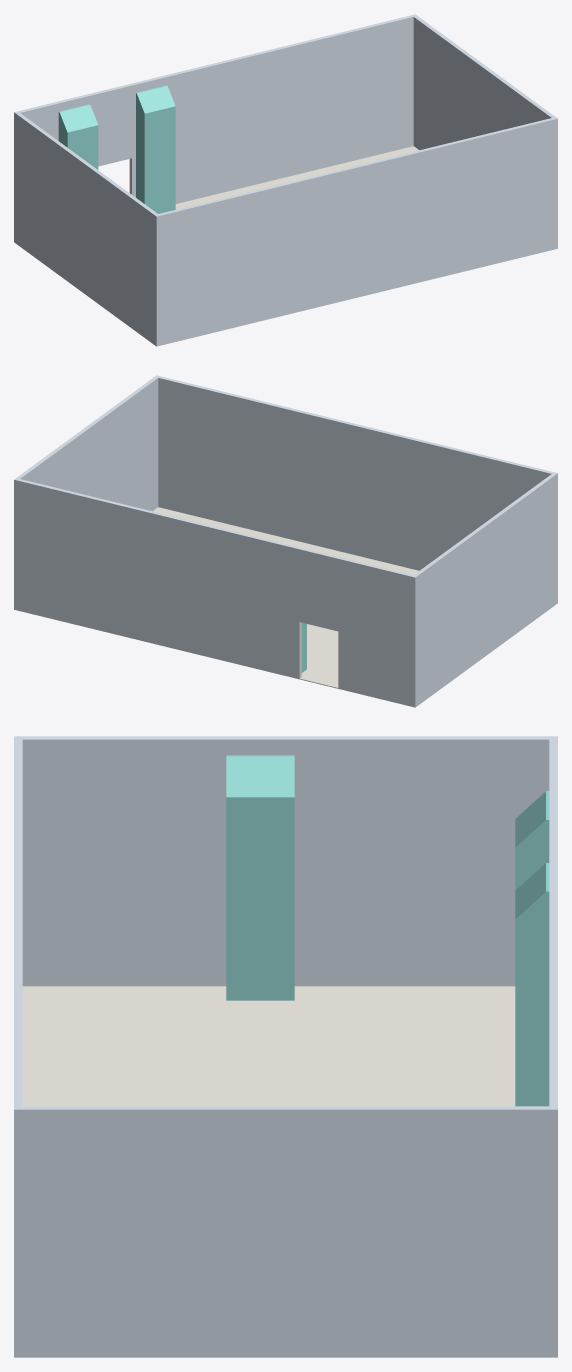
Rendered from forum.fbx.
3 renders of one model, top to bottom at view 1: azimuth 30°, elevation 25°; view 2: azimuth 150°, elevation 25°; view 3: azimuth 270°, elevation 25°, orthographic. The views are drawn at different scales.
Visible parts, largest first — view 1: mesh1, mesh23, mesh0, mesh9, mesh18, mesh8, mesh28, mesh17; view 2: mesh4, mesh10, mesh0, mesh9, mesh17, mesh8; view 3: mesh2, mesh11, mesh17, mesh14, mesh8, mesh18, mesh28.
Boxes of the visible parts, x1=… form: mesh1: x1=156, y1=118, x2=557, y2=346; mesh23: x1=20, y1=17, x2=413, y2=203; mesh0: x1=14, y1=112, x2=156, y2=346; mesh9: x1=413, y1=17, x2=551, y2=150; mesh18: x1=136, y1=85, x2=175, y2=213; mesh8: x1=14, y1=14, x2=557, y2=216; mesh28: x1=58, y1=104, x2=98, y2=169; mesh17: x1=175, y1=146, x2=418, y2=209; mesh4: x1=14, y1=479, x2=415, y2=707; mesh10: x1=158, y1=378, x2=551, y2=570; mesh0: x1=415, y1=473, x2=557, y2=707; mesh9: x1=20, y1=378, x2=158, y2=511; mesh17: x1=153, y1=507, x2=418, y2=687; mesh8: x1=14, y1=375, x2=557, y2=577; mesh2: x1=14, y1=1109, x2=557, y2=1357; mesh11: x1=22, y1=739, x2=549, y2=986; mesh17: x1=22, y1=986, x2=515, y2=1106; mesh14: x1=226, y1=755, x2=294, y2=1000; mesh8: x1=14, y1=736, x2=557, y2=1109; mesh18: x1=515, y1=863, x2=549, y2=1106; mesh28: x1=515, y1=791, x2=549, y2=890.
Size of the model in its own units: 1585 by 491 by 975.
